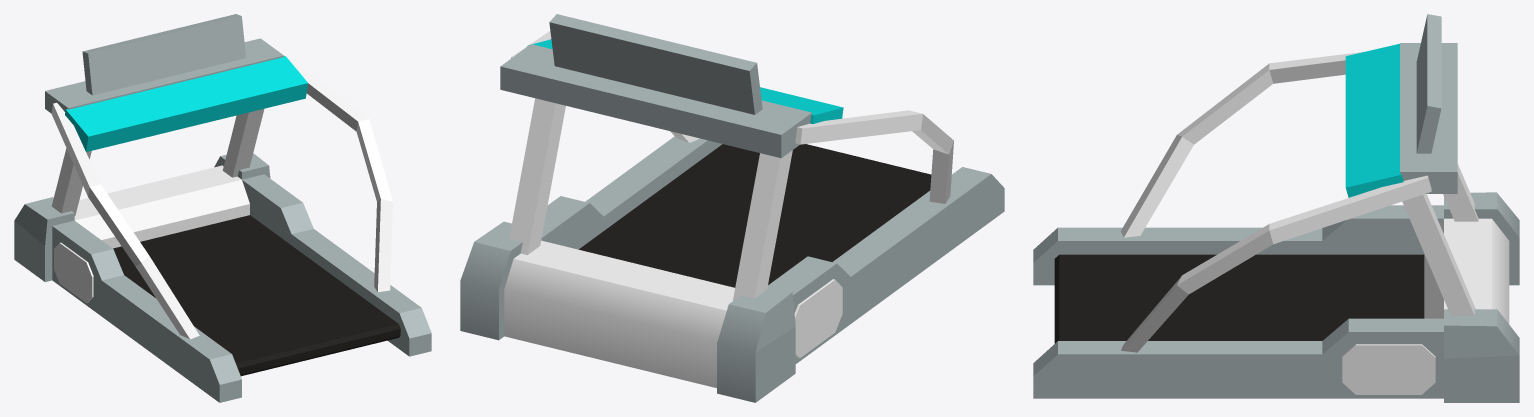
The model's file is 3.Flame_Treadmill.fbx.
3 views of the same model, side by side, from view 1: azimuth 30°, elevation 25°; view 2: azimuth 150°, elevation 25°; view 3: azimuth 270°, elevation 25° (orthographic). The views are drawn at different scales.
Parts seen in each view (by area): view 1: Flame_Treadmill; view 2: Flame_Treadmill; view 3: Flame_Treadmill.
Part boxes in pixels (x1=…): Flame_Treadmill: x1=14, y1=14, x2=431, y2=402; Flame_Treadmill: x1=460, y1=14, x2=1004, y2=402; Flame_Treadmill: x1=1033, y1=14, x2=1519, y2=402.
Bounding box in the file's own units: 11.96 × 9.19 × 14.7.
